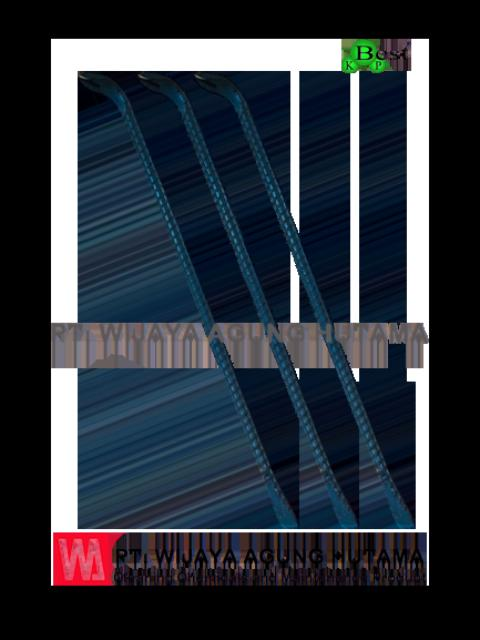crow bar: (63, 57, 431, 536)
